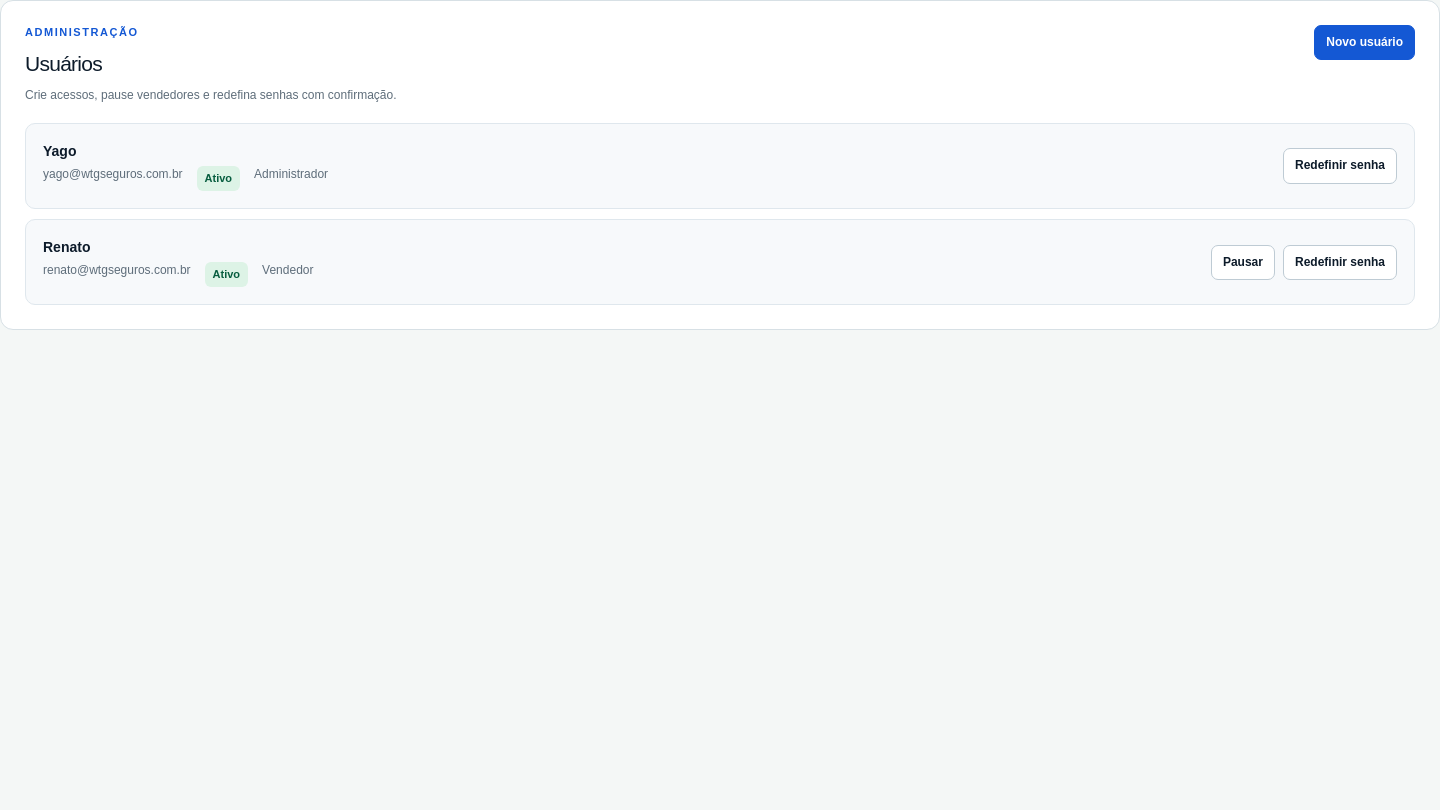
Test: gestão operacional de usuários › confirma a pausa de vendedor e atualiza seu estado visível
This screenshot has width=1440, height=810.
Click the button with aria-label "Pausar Renato": x=1243, y=262 [1211,244,1275,280]
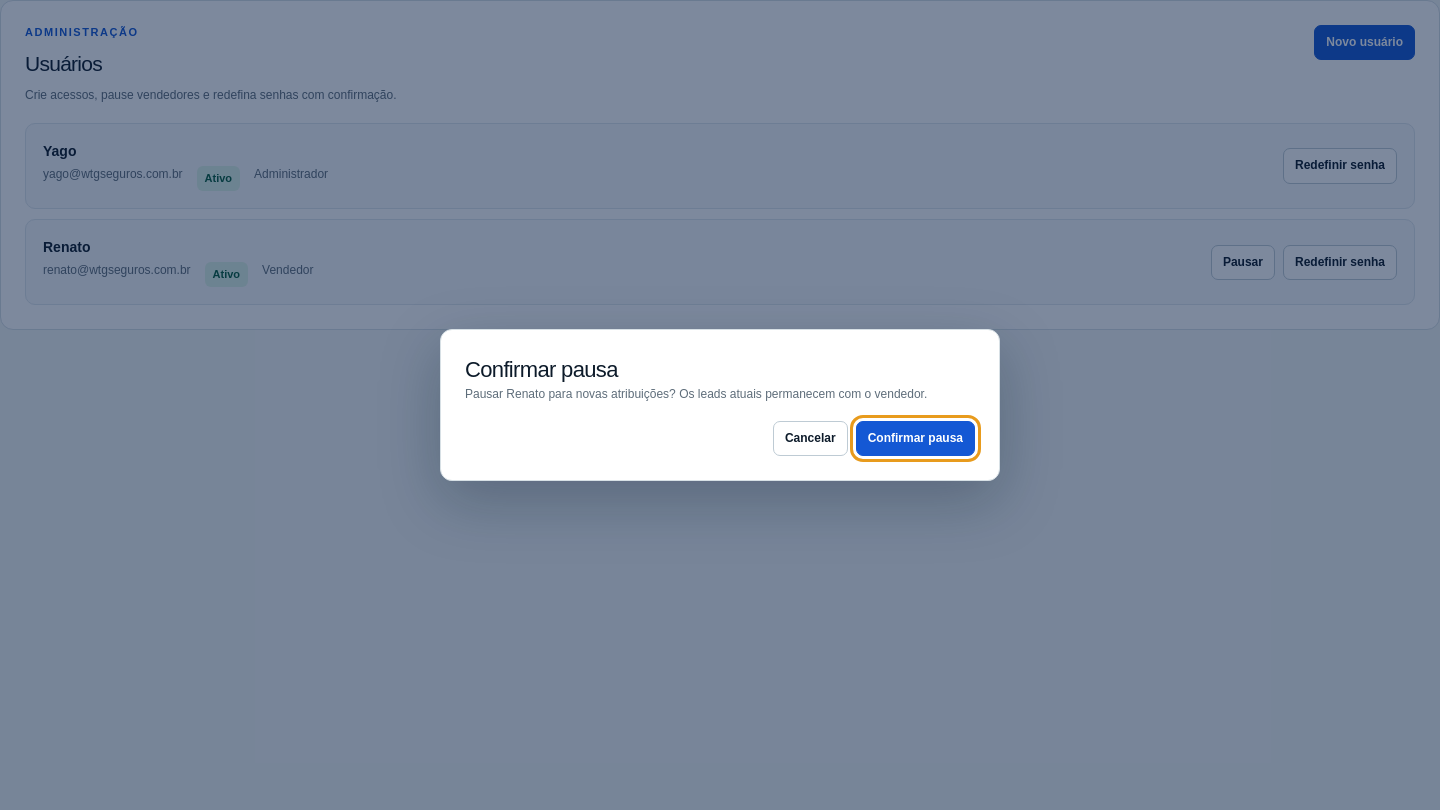
Now the dialog "Confirmar pausa" is shown, box [440,329,1000,481]
Click the button "Confirmar pausa": x=915, y=439 [856,421,975,456]
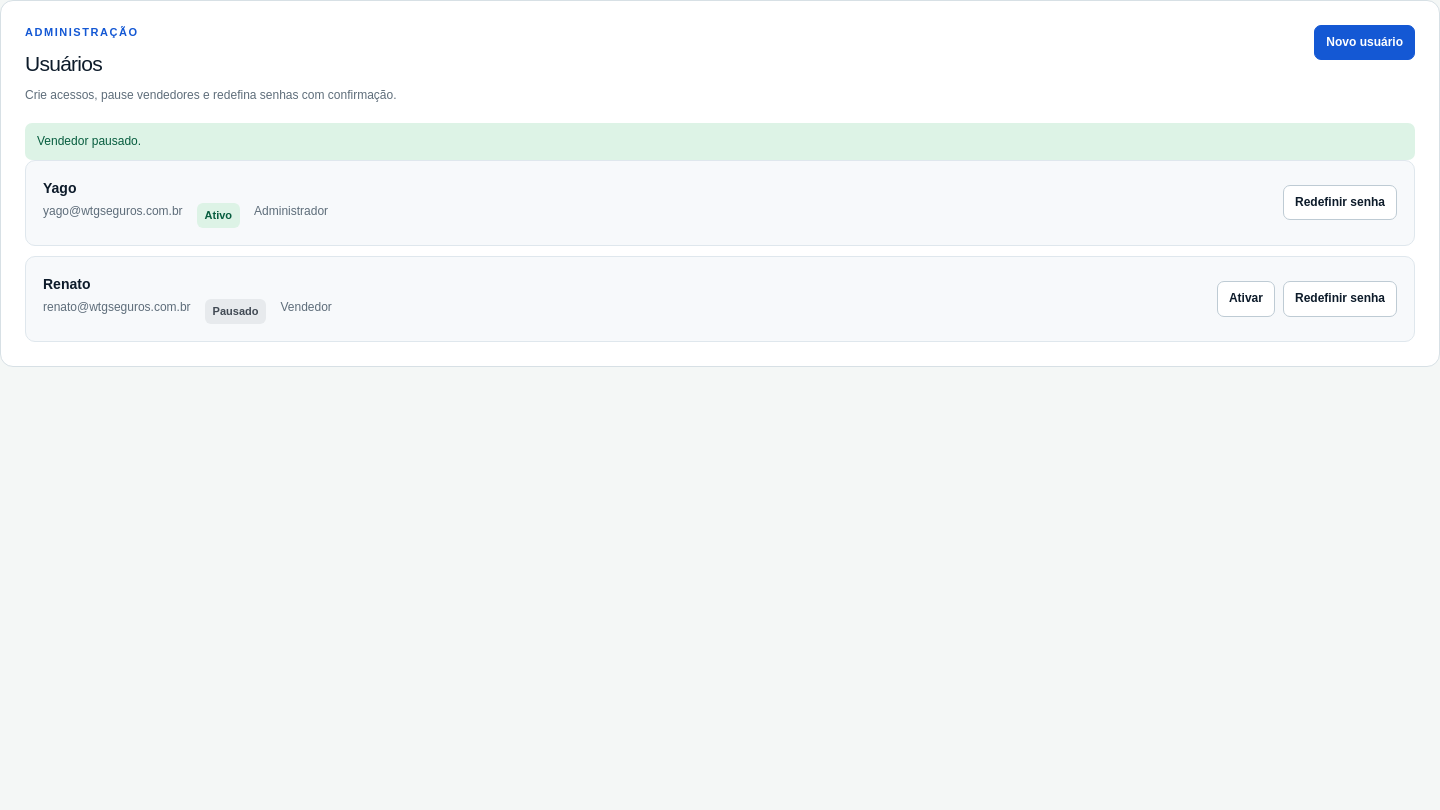
Now the message reads "Vendedor pausado.", box [37,134,141,148]
Now the text "Pausado" is shown, box [205,299,266,324]
Now the button with aria-label "Ativar Renato" is shown, box [1217,281,1275,317]
